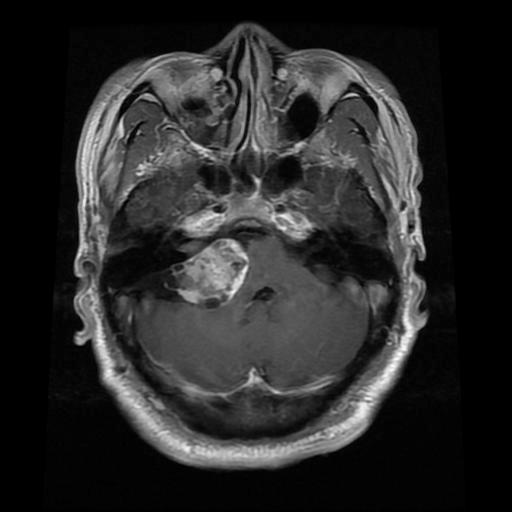Tumour-Meningioma: (158, 229, 247, 348)
